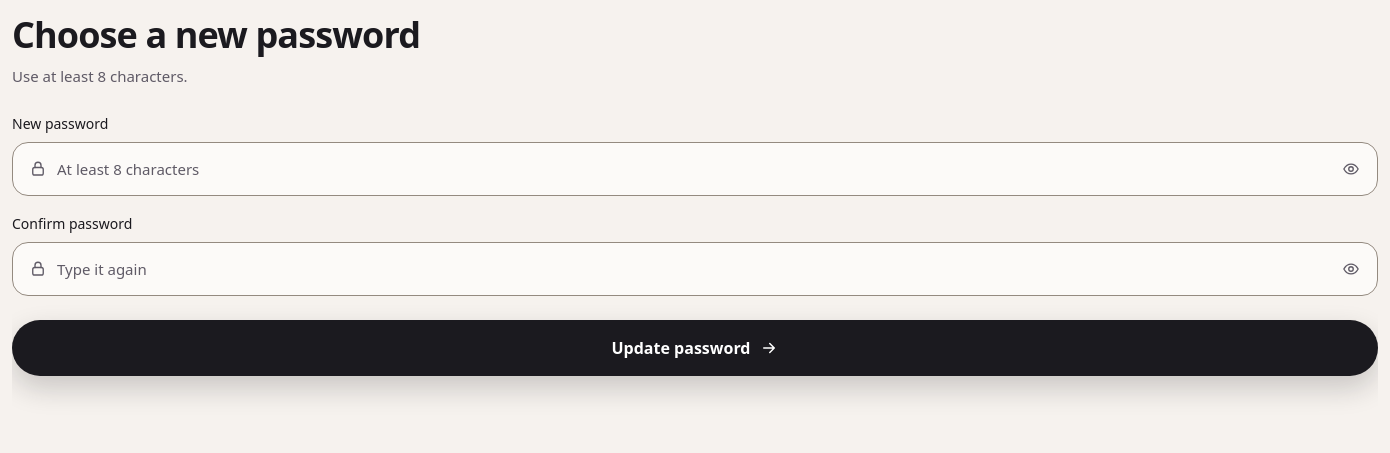
Scenario: ResetPasswordForm › shows a friendly error from Supabase
The width and height of the screenshot is (1390, 453).
In the password field labelled "New password": (688, 168) [57,142,1319,194], type "correct-horse-1"
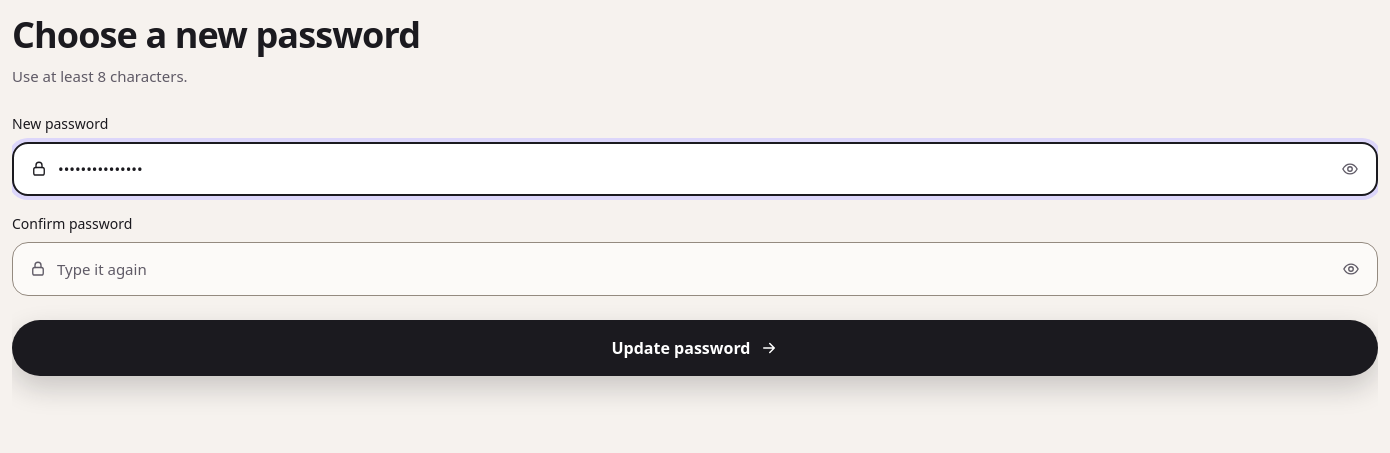
In the password field labelled "Confirm password": (688, 268) [57,242,1319,294], type "correct-horse-1"
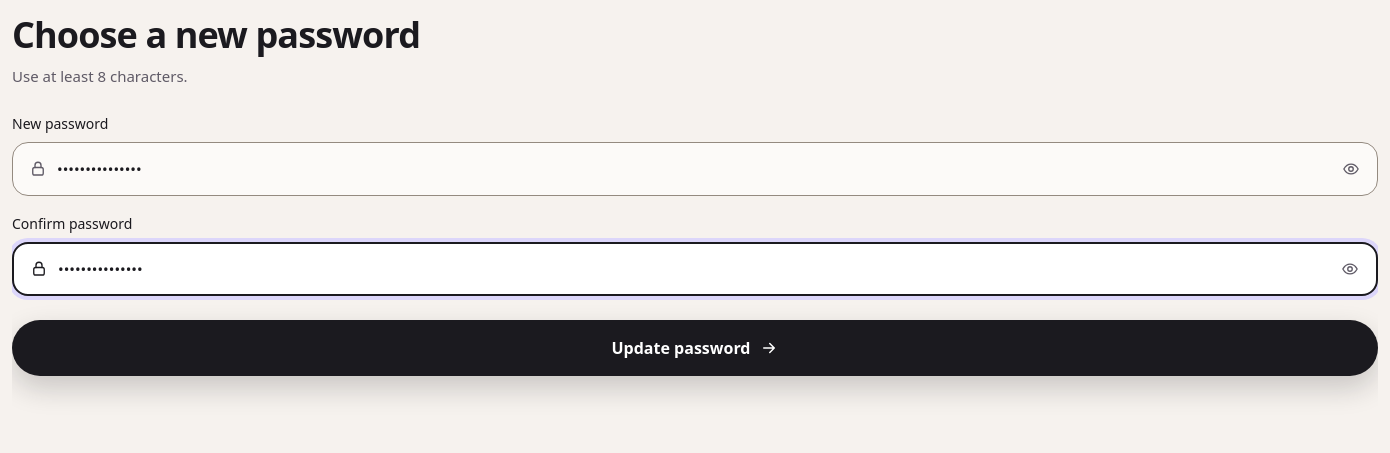
Click the button "Update password": (695, 348) [12,320,1378,376]
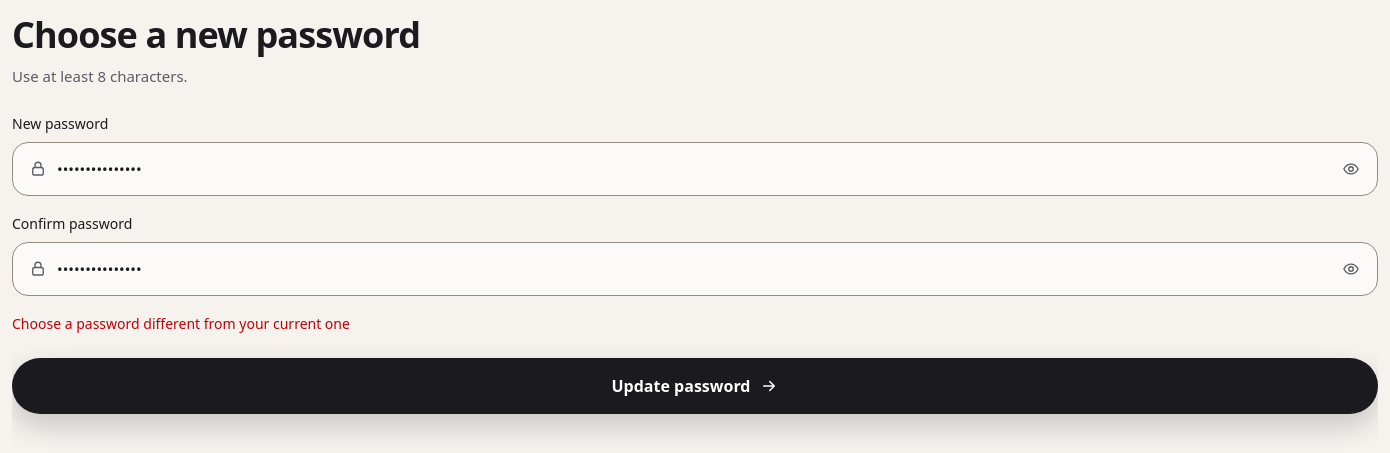
Now the message reads "Choose a password different from your current one", box [12,314,350,332]
